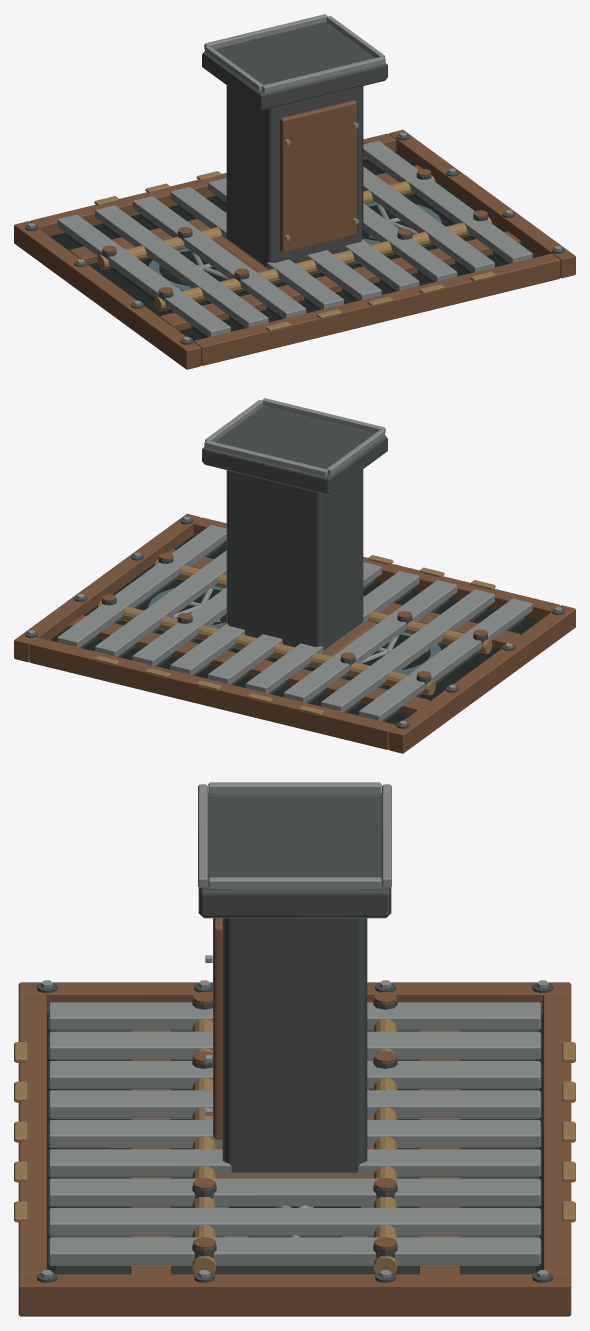
File: inspection-rc28.glb
3 views of the same model, one above another, from view 1: azimuth 30°, elevation 25°; view 2: azimuth 150°, elevation 25°; view 3: azimuth 270°, elevation 25° (orthographic). The views are drawn at different scales.
Parts seen in each view (by area): view 1: HeatOutlet / Oxidized zinc, HeatOutlet / Heat-stained enamel, BoilerEvidenceStand / Blackened iron, BoilerEvidenceStand / Heat-stained enamel, HeatOutlet / Old brass, HeatOutlet / Deep duct shadow, RoofEvidenceStand / Oxidized zinc, HeatOutlet / Blackened iron, ColdReturn / Deep duct shadow, ColdReturn / Old brass, ColdReturn / Oxidized zinc, ColdReturn / Cold blue-grey enamel; view 2: BoilerEvidenceStand / Blackened iron, HeatOutlet / Oxidized zinc, HeatOutlet / Heat-stained enamel, HeatOutlet / Old brass, HeatOutlet / Deep duct shadow, RoofEvidenceStand / Oxidized zinc, HeatOutlet / Blackened iron, ColdReturn / Deep duct shadow, ColdReturn / Old brass, BoilerEvidenceStand / Heat-stained enamel, ColdReturn / Oxidized zinc, ColdReturn / Cold blue-grey enamel; view 3: HeatOutlet / Oxidized zinc, BoilerEvidenceStand / Blackened iron, HeatOutlet / Heat-stained enamel, HeatOutlet / Blackened iron, RoofEvidenceStand / Oxidized zinc, HeatOutlet / Old brass, BoilerEvidenceStand / Heat-stained enamel, HeatOutlet / Deep duct shadow, ColdReturn / Old brass.
Boxes of the visible parts, x1,y1,x2,y2 form: HeatOutlet / Oxidized zinc: (28,132,561,341); HeatOutlet / Heat-stained enamel: (14,129,575,369); BoilerEvidenceStand / Blackened iron: (202,22,387,266); BoilerEvidenceStand / Heat-stained enamel: (213,100,371,272); HeatOutlet / Old brass: (94,171,495,331); HeatOutlet / Deep duct shadow: (50,151,539,341); RoofEvidenceStand / Oxidized zinc: (204,14,385,239); HeatOutlet / Blackened iron: (25,134,564,344); ColdReturn / Deep duct shadow: (159,205,413,285); ColdReturn / Old brass: (94,173,495,330); ColdReturn / Oxidized zinc: (161,204,417,283); ColdReturn / Cold blue-grey enamel: (148,202,441,290); BoilerEvidenceStand / Blackened iron: (202,406,387,650); HeatOutlet / Oxidized zinc: (28,516,561,725); HeatOutlet / Heat-stained enamel: (14,513,575,753); HeatOutlet / Old brass: (94,555,495,715); HeatOutlet / Deep duct shadow: (50,535,539,725); RoofEvidenceStand / Oxidized zinc: (204,398,385,477); HeatOutlet / Blackened iron: (25,518,564,728); ColdReturn / Deep duct shadow: (176,589,430,669); ColdReturn / Old brass: (99,556,494,714); BoilerEvidenceStand / Heat-stained enamel: (218,620,376,656); ColdReturn / Oxidized zinc: (172,588,428,667); ColdReturn / Cold blue-grey enamel: (148,586,441,674); HeatOutlet / Oxidized zinc: (41,980,548,1277); BoilerEvidenceStand / Blackened iron: (198,793,391,1172); HeatOutlet / Heat-stained enamel: (18,982,571,1316); HeatOutlet / Blackened iron: (36,982,553,1282); RoofEvidenceStand / Oxidized zinc: (198,782,391,1115); HeatOutlet / Old brass: (14,1018,575,1273); BoilerEvidenceStand / Heat-stained enamel: (213,918,373,1178); HeatOutlet / Deep duct shadow: (47,1013,542,1272); ColdReturn / Old brass: (14,1042,564,1222).
Size of the model in its own units: 1.51 by 0.7785 by 1.18.
